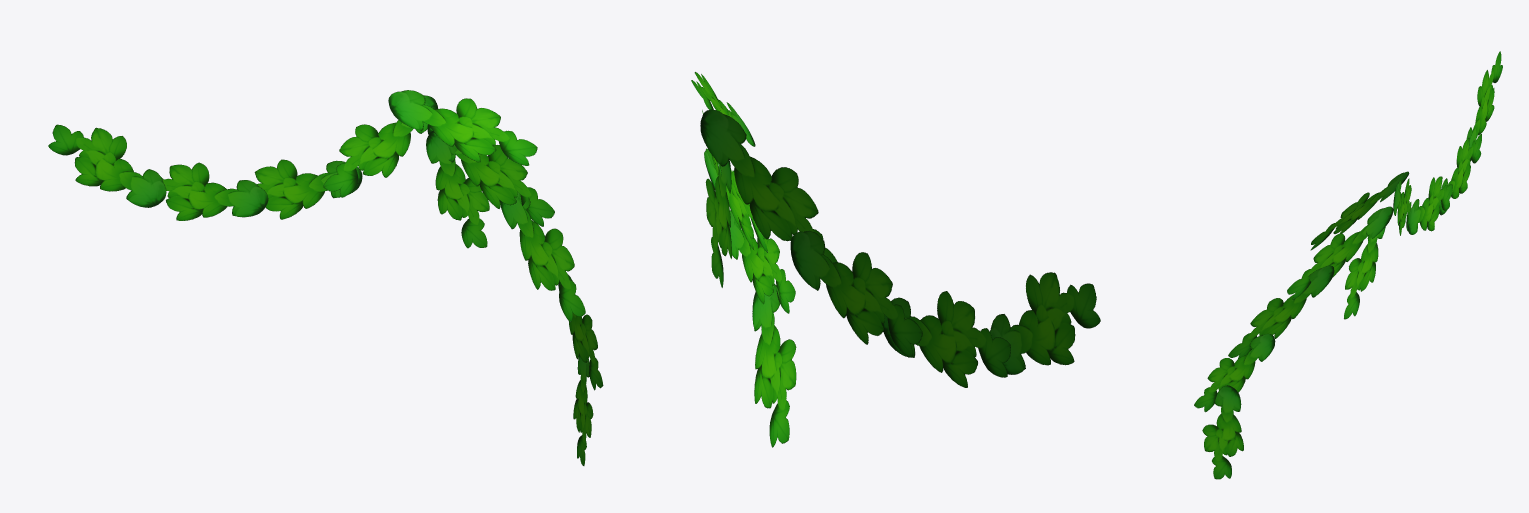
File: trava.fbx
The picture shows the model from 3 angles, left to right: view 1: azimuth 30°, elevation 25°; view 2: azimuth 150°, elevation 25°; view 3: azimuth 270°, elevation 25°; orthographic projection. The views are drawn at different scales.
Visible parts, largest first — view 1: pPlane11; view 2: pPlane11; view 3: pPlane11.
Boxes of the visible parts, x1,y1,x2,y2 form: pPlane11: (48, 90, 603, 465); pPlane11: (691, 72, 1100, 447); pPlane11: (1194, 51, 1502, 479).
Size of the model in its own units: 26.33 by 23.24 by 21.2.
1 material, 1 textured.
